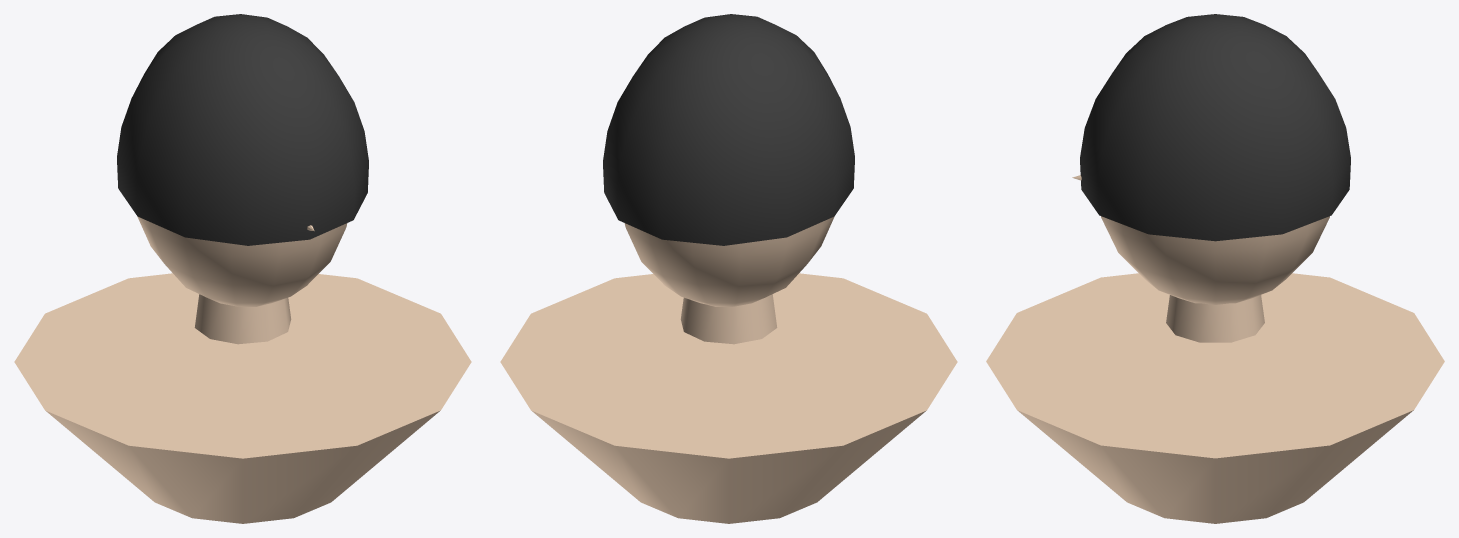
File: portrait13m_002.glb
3 renders of one model, left to right at view 1: azimuth 30°, elevation 25°; view 2: azimuth 150°, elevation 25°; view 3: azimuth 270°, elevation 25°, orthographic.
Size of the model in its own units: 1.95 by 2.15 by 1.95.
